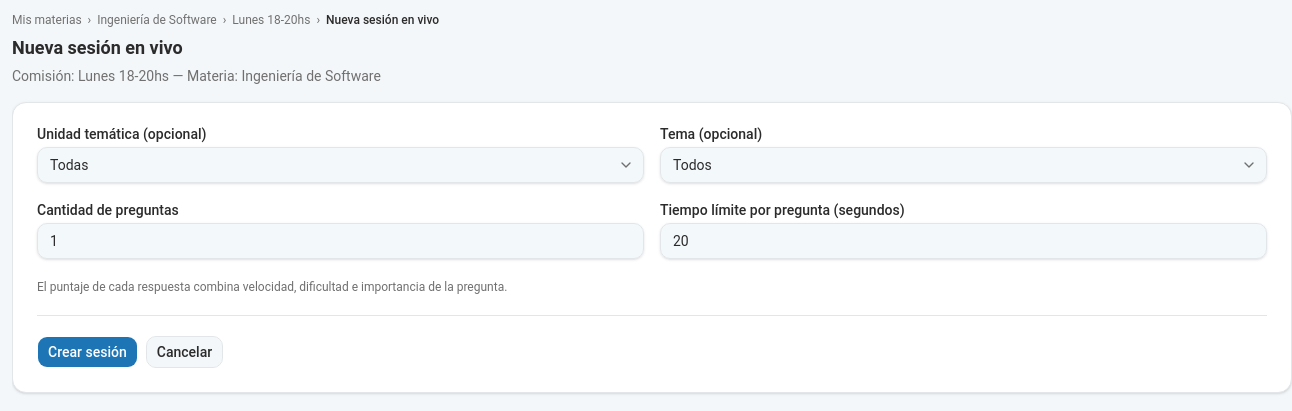
it: NuevaSesionEnVivo › no deja tipear un signo menos en el tiempo límite
Check: the heading "Nueva sesión en vivo" is shown, box [12,37,183,58]
Replace the text in the number field labelled "Tiempo límite por pregunta (segundos)" with "-30": [964, 241] box [660,223,1267,259]
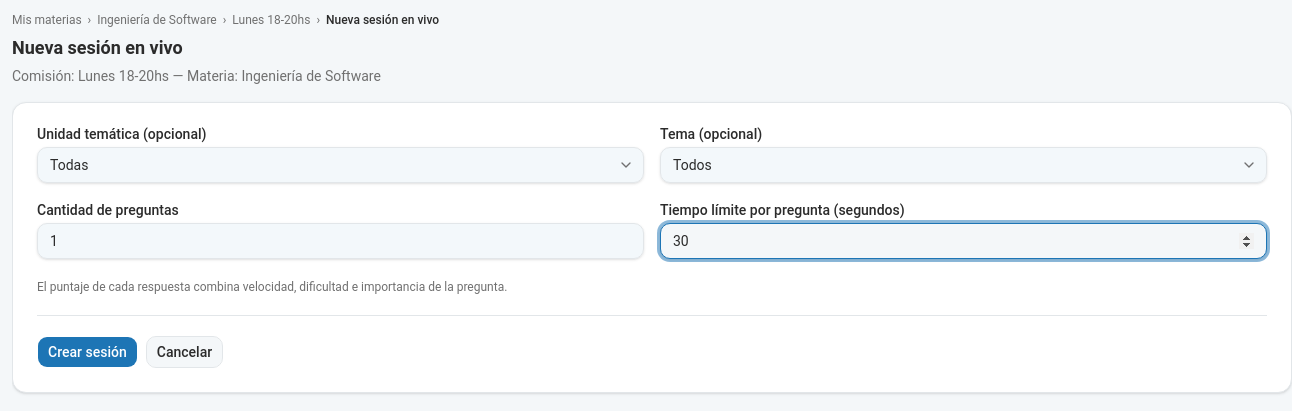
Check: the number field labelled "Tiempo límite por pregunta (segundos)" holds "30", box [660,223,1267,259]
